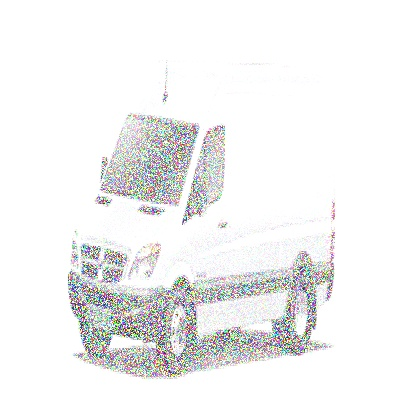Vehicle: (67, 63, 339, 385)
